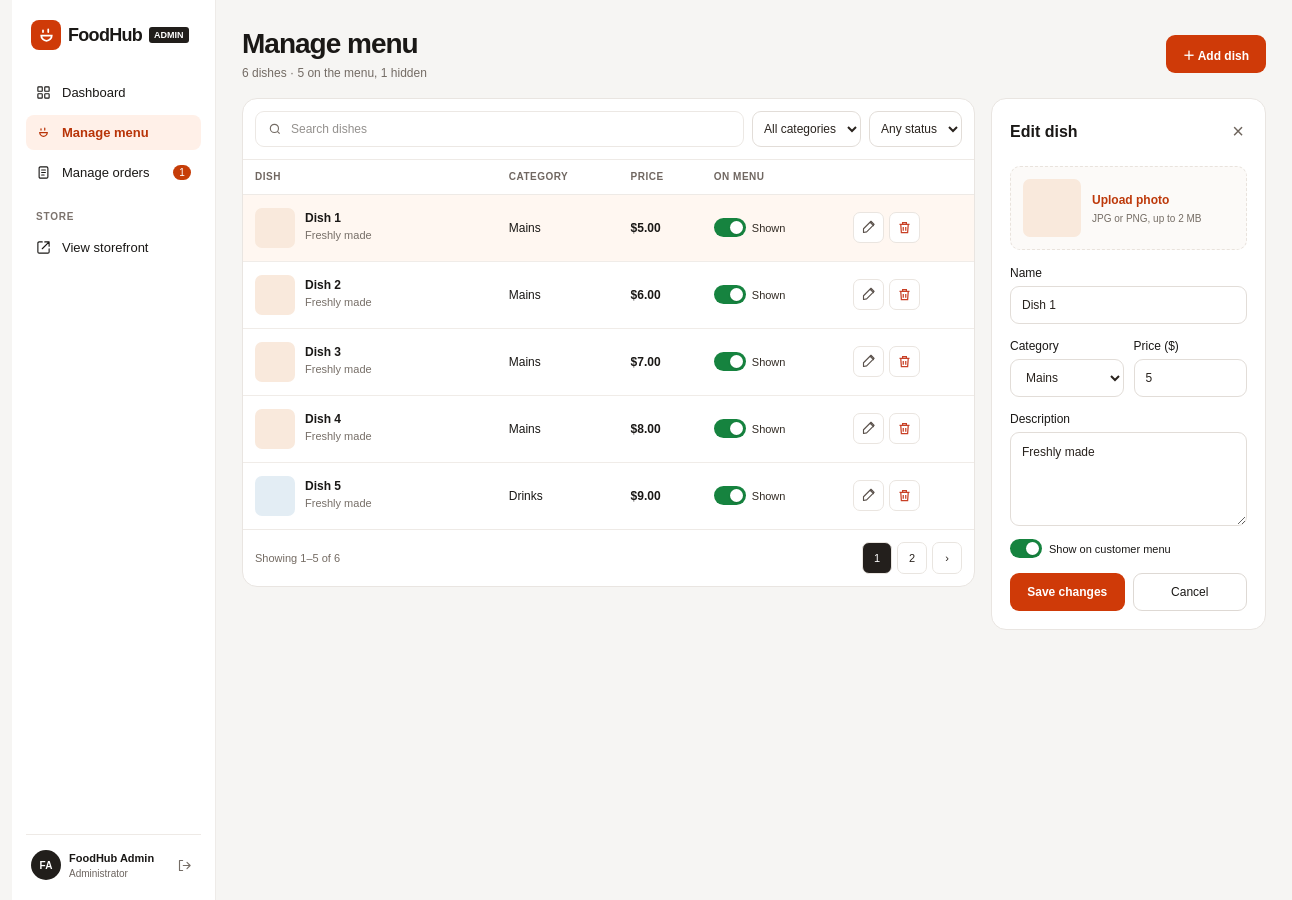
Test: React administration › redirects to login if the backend session expires during an admin mutation
The width and height of the screenshot is (1292, 900).
Expected: the heading "Manage menu" is shown, [242, 28, 427, 60]
Click the switch named "Hide Dish 1". click: (750, 228)
box: [714, 218, 785, 237]
(page scrolled)
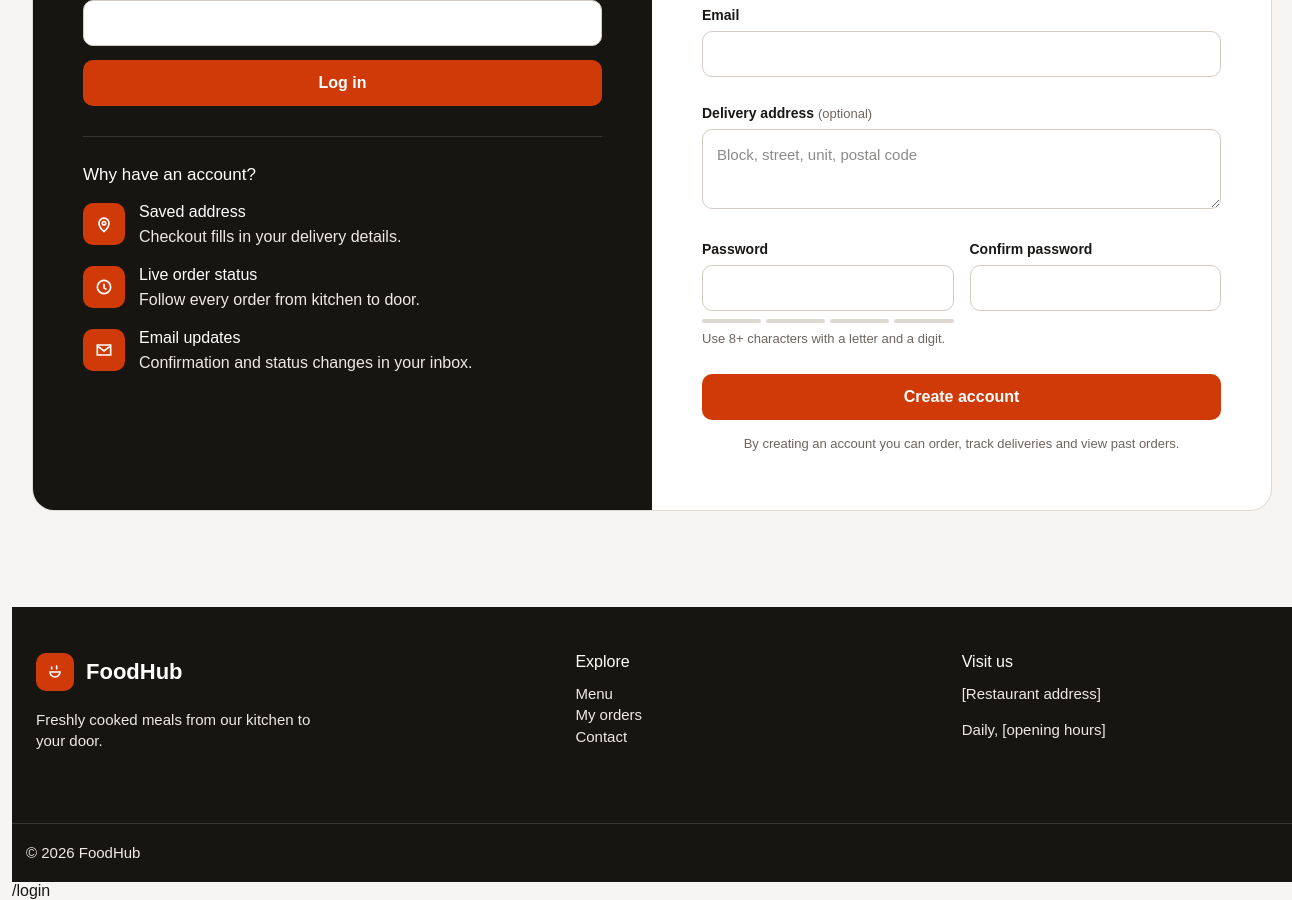
Now the text with test id "where" reads "/login", box [12, 882, 50, 899]
